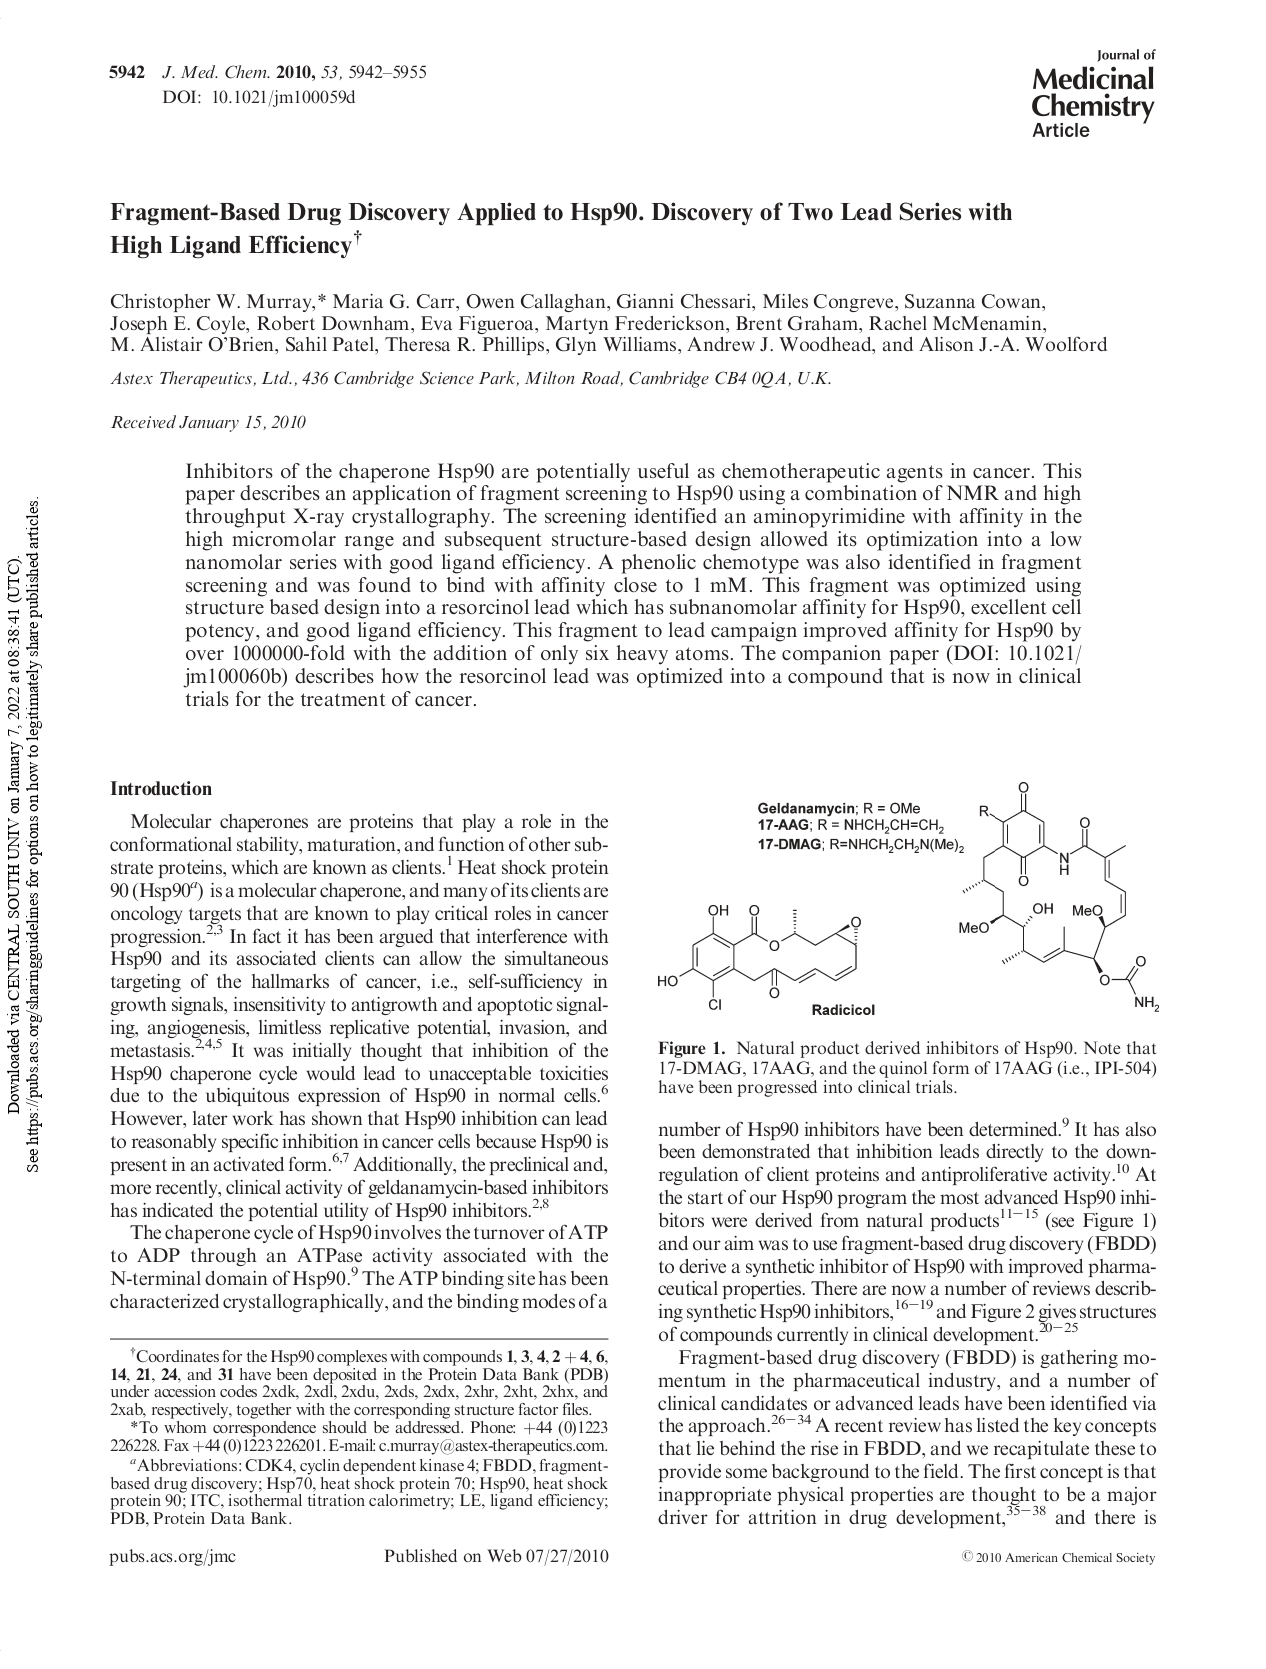exist_molecular: (951, 774, 1169, 1013), (652, 891, 876, 1016)
